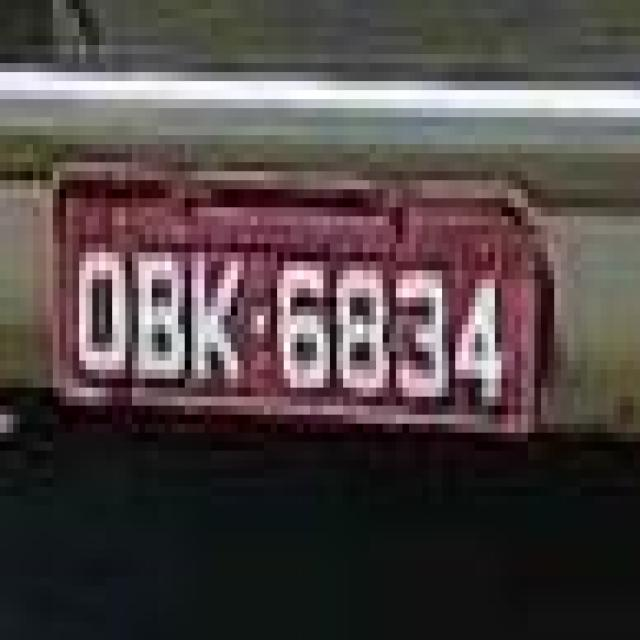3: (396, 257, 454, 419)
4: (452, 262, 506, 418)
6: (276, 250, 330, 394)
8: (333, 253, 389, 407)
B: (135, 242, 190, 388)
K: (188, 242, 250, 391)
O: (78, 238, 125, 388)
